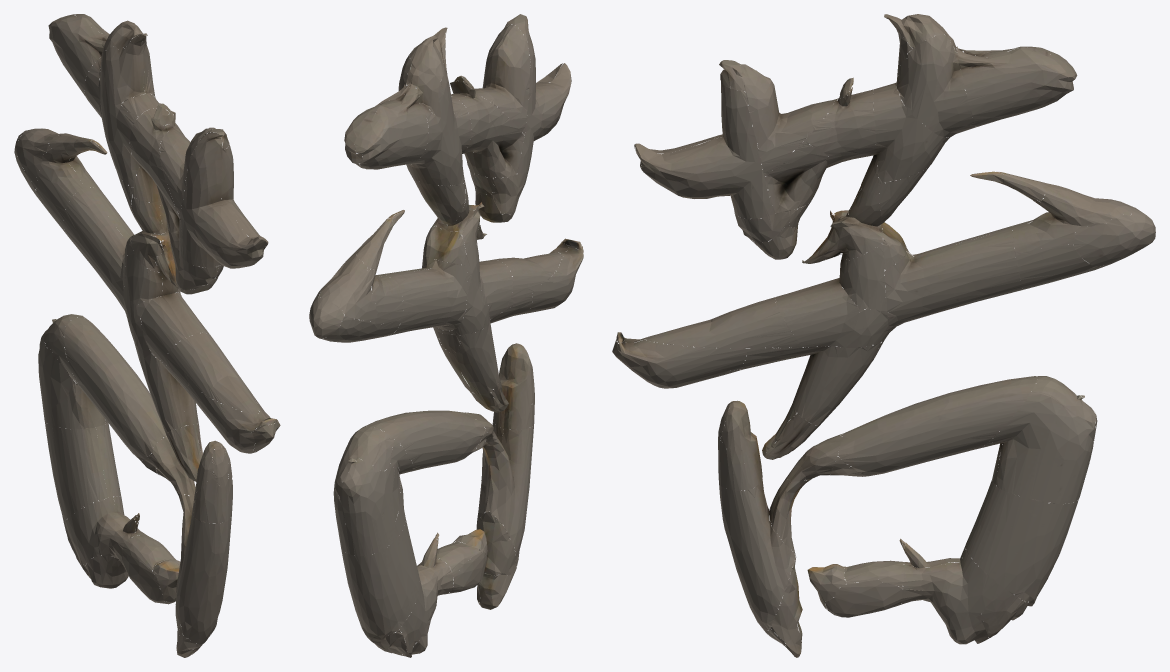
The picture shows the model from 3 angles, left to right: view 1: azimuth 30°, elevation 25°; view 2: azimuth 150°, elevation 25°; view 3: azimuth 270°, elevation 25°; orthographic projection. The views are drawn at different scales.
Parts seen in each view (by area): view 1: tripo_node_1f2c87c1-8d45-4b45-9bb6-104023aa8a17; view 2: tripo_node_1f2c87c1-8d45-4b45-9bb6-104023aa8a17; view 3: tripo_node_1f2c87c1-8d45-4b45-9bb6-104023aa8a17.
Boxes of the visible parts, left/top/right/bottom form: tripo_node_1f2c87c1-8d45-4b45-9bb6-104023aa8a17: left=14, top=14, right=280, bottom=657; tripo_node_1f2c87c1-8d45-4b45-9bb6-104023aa8a17: left=309, top=14, right=583, bottom=657; tripo_node_1f2c87c1-8d45-4b45-9bb6-104023aa8a17: left=612, top=14, right=1155, bottom=657.
Bounding box in the file's own units: 0.0871 × 1 × 0.7678.
Materials: 1 (1 with a texture image).
